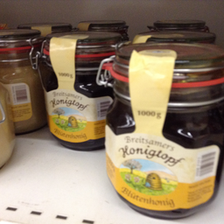honey: (91, 44, 223, 219), (34, 31, 119, 153)
